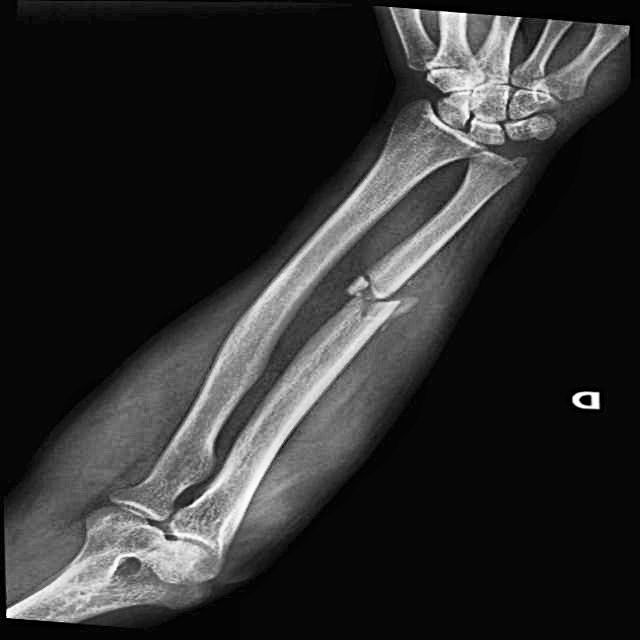Comminuted: (316, 253, 458, 337)
